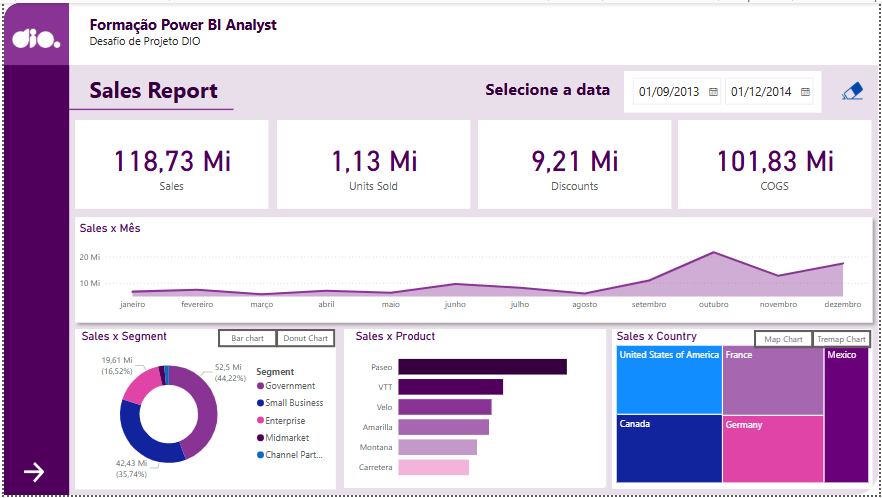

What the dashboard file says about the page in this screenshot:
{"tool":"powerbi","page":{"name":"Sales","canvas":[1280,720],"ordinal":0},"visuals":[{"type":"shape","box":[0,0,1280,720],"z":0},{"type":"image","title":"Clean","box":[1215.6,108.8,53.3,40],"z":0,"group":"g1"},{"type":"card","fields":{"Values":["Sum(financials. Sales)"]},"box":[104.3,171,282.6,130.4],"z":0,"group":"g4"},{"type":"donutChart","title":"Sales x Segment ","fields":{"Y":["Sum(financials. Sales)"],"Category":["financials.Segment"]},"box":[109.3,476.8,376.7,230.2],"z":0,"group":"g3"},{"type":"map","title":"Sales x Country","fields":{"Category":["financials.Country"],"Size":["Sum(financials. Sales)"]},"box":[889.6,477.6,380.6,231.3],"z":0,"group":"g2"},{"type":"shape","box":[0,0,96,720],"z":1000},{"type":"textbox","box":[700.1,104.4,207.7,49.2],"z":1000,"group":"g1"},{"type":"card","fields":{"Values":["Sum(financials.Units Sold)"]},"box":[400,171,282.6,130.4],"z":1000,"group":"g4"},{"type":"treemap","title":"Sales x Country ","fields":{"Group":["financials.Country"],"Values":["Sum(financials. Sales)"]},"box":[890.7,476.7,379.1,230.2],"z":1000,"group":"g2"},{"type":"shape","box":[0,0,95.7,91.3],"z":2000},{"type":"actionButton","box":[1216.3,109.3,62.8,39.5],"z":2000,"group":"g1"},{"type":"card","fields":{"Values":["Sum(financials.Discounts)"]},"box":[694.2,171,282.6,130.4],"z":2000,"group":"g4"},{"type":"actionButton","title":"Donut Chart","box":[398.3,476.7,86.7,26.7],"z":2000,"group":"g3"},{"type":"actionButton","title":"Maps","box":[1096.7,478.3,86.7,26.7],"z":2000,"group":"g2"},{"type":"image","box":[8,12,80,80],"z":3000},{"type":"card","fields":{"Values":["Sum(financials.COGS)"]},"box":[986.9,171,282.6,130.4],"z":3000,"group":"g4"},{"type":"actionButton","title":"Bar Chart","box":[313.3,476.7,86.7,26.7],"z":3000,"group":"g3"},{"type":"actionButton","title":"Tremap","box":[1181.7,478.3,86.7,26.7],"z":3000,"group":"g2"},{"type":"shape","box":[95.7,0,1184.1,91.3],"z":4000},{"type":"textbox","box":[120,11.7,341,65.9],"z":5000},{"type":"shape","box":[94.4,138.9,240.7,33.3],"z":6000,"group":"g5"},{"type":"shape","box":[95.8,304.2,1184.7,172.2],"z":6000},{"type":"textbox","box":[119.4,100,280.6,55.6],"z":7000,"group":"g5"},{"type":"shape","box":[104.1,477.6,381.6,234.7],"z":7000},{"type":"shape","box":[498,477.6,381.6,232.7],"z":8000},{"type":"shape","box":[889.4,476.6,380.9,234],"z":9000},{"type":"areaChart","title":"Sales x Mês","fields":{"Category":["financials.Date.Variation.Hierarquia de datas.Mês"],"Y":["Sum(financials. Sales)"]},"box":[104.7,318.6,1165.1,139.5],"z":10000},{"type":"clusteredBarChart","title":"Sales x Product","fields":{"Y":["Sum(financials. Sales)"],"Category":["financials.Product"]},"box":[509,477.6,371.6,231.3],"z":11000},{"type":"slicer","fields":{"Values":["financials.Date"]},"box":[907.4,100,289.3,61.5],"z":12000},{"type":"group","id":"g1","title":"Filtro por Data","box":[700.1,104.4,579,49.2],"z":13000},{"type":"group","id":"g2","title":"Sales x Country","box":[889.6,476.7,380.6,232.2],"z":14000},{"type":"group","id":"g3","title":"Sales x Segment","box":[108.8,476.7,377.2,232.2],"z":15000},{"type":"actionButton","box":[23.5,666.7,64.7,39.2],"z":16000},{"type":"group","id":"g4","title":"Cartões","box":[104.3,171,1165.2,130.4],"z":17000},{"type":"group","id":"g5","title":"Grupo 1","box":[94.4,100,305.6,72.2],"z":18000}]}

Visuals, with their boxes on the page's 1280x720 design canvas (x1, y1, x2, y2). These are canvas units, not pixel positions in the 882x498 screenshot, which may show the page scaled, cropped or inside an application window:
shape: select_region(0, 0, 1280, 720)
"Clean" image: select_region(1216, 109, 1269, 149)
card - Sum(financials. Sales): select_region(104, 171, 387, 301)
"Sales x Segment " donutChart: select_region(109, 477, 486, 707)
"Sales x Country" map: select_region(890, 478, 1270, 709)
shape: select_region(0, 0, 96, 720)
textbox: select_region(700, 104, 908, 154)
card - Sum(financials.Units Sold): select_region(400, 171, 683, 301)
"Sales x Country " treemap: select_region(891, 477, 1270, 707)
shape: select_region(0, 0, 96, 91)
actionButton: select_region(1216, 109, 1279, 149)
card - Sum(financials.Discounts): select_region(694, 171, 977, 301)
"Donut Chart" actionButton: select_region(398, 477, 485, 503)
"Maps" actionButton: select_region(1097, 478, 1183, 505)
image: select_region(8, 12, 88, 92)
card - Sum(financials.COGS): select_region(987, 171, 1270, 301)
"Bar Chart" actionButton: select_region(313, 477, 400, 503)
"Tremap" actionButton: select_region(1182, 478, 1268, 505)
shape: select_region(96, 0, 1280, 91)
textbox: select_region(120, 12, 461, 78)
shape: select_region(94, 139, 335, 172)
shape: select_region(96, 304, 1280, 476)
textbox: select_region(119, 100, 400, 156)
shape: select_region(104, 478, 486, 712)
shape: select_region(498, 478, 880, 710)
shape: select_region(889, 477, 1270, 711)
"Sales x Mês" areaChart: select_region(105, 319, 1270, 458)
"Sales x Product" clusteredBarChart: select_region(509, 478, 881, 709)
slicer - financials.Date: select_region(907, 100, 1197, 162)
"Filtro por Data" group: select_region(700, 104, 1279, 154)
"Sales x Country" group: select_region(890, 477, 1270, 709)
"Sales x Segment" group: select_region(109, 477, 486, 709)
actionButton: select_region(24, 667, 88, 706)
"Cartões" group: select_region(104, 171, 1270, 301)
"Grupo 1" group: select_region(94, 100, 400, 172)
